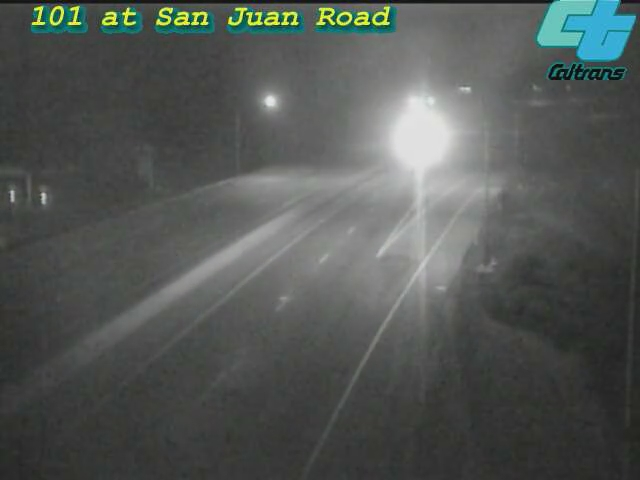vehicle: (382, 113, 432, 163)
